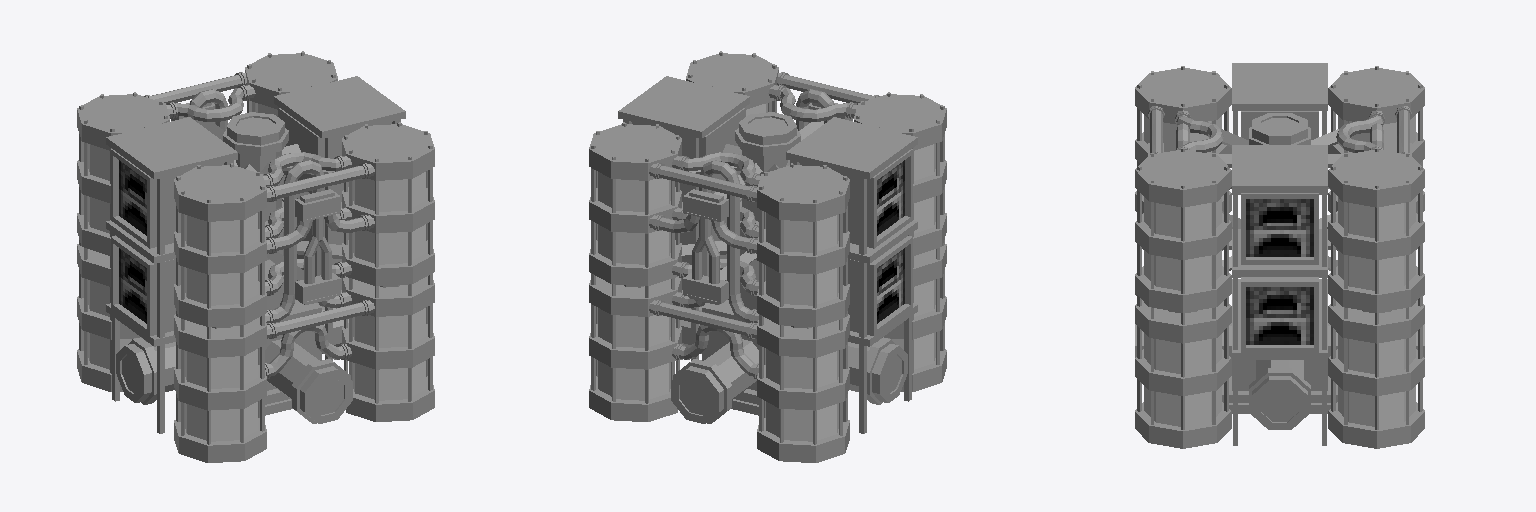
The picture shows the model from 3 angles: view 1: azimuth 30°, elevation 25°; view 2: azimuth 150°, elevation 25°; view 3: azimuth 270°, elevation 25°; orthographic projection.
Visible parts, largest first — view 1: Cube.013_Cube.042; view 2: Cube.013_Cube.042; view 3: Cube.013_Cube.042.
Boxes of the visible parts, box(x1,y1,x2,y2) form: Cube.013_Cube.042: box(77, 51, 434, 462); Cube.013_Cube.042: box(589, 51, 946, 462); Cube.013_Cube.042: box(1135, 63, 1424, 448).
Bounding box in the file's own units: 3 × 3 × 3.
Materials: 4 (1 with a texture image).